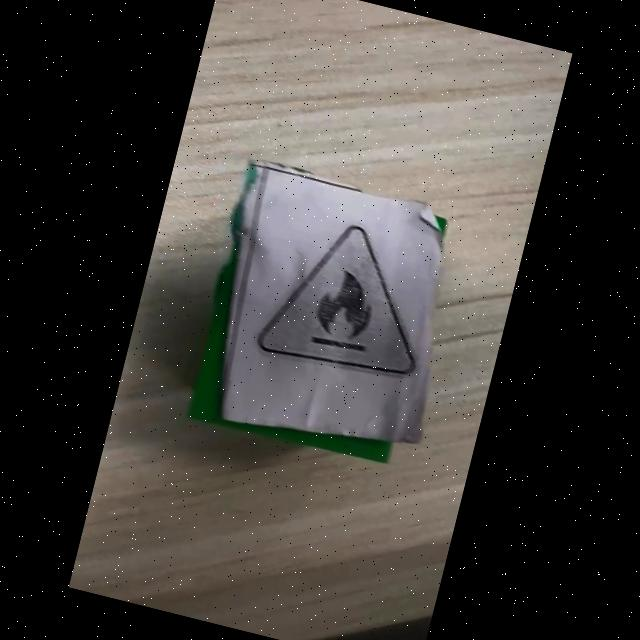Fire: (258, 225, 414, 375)
